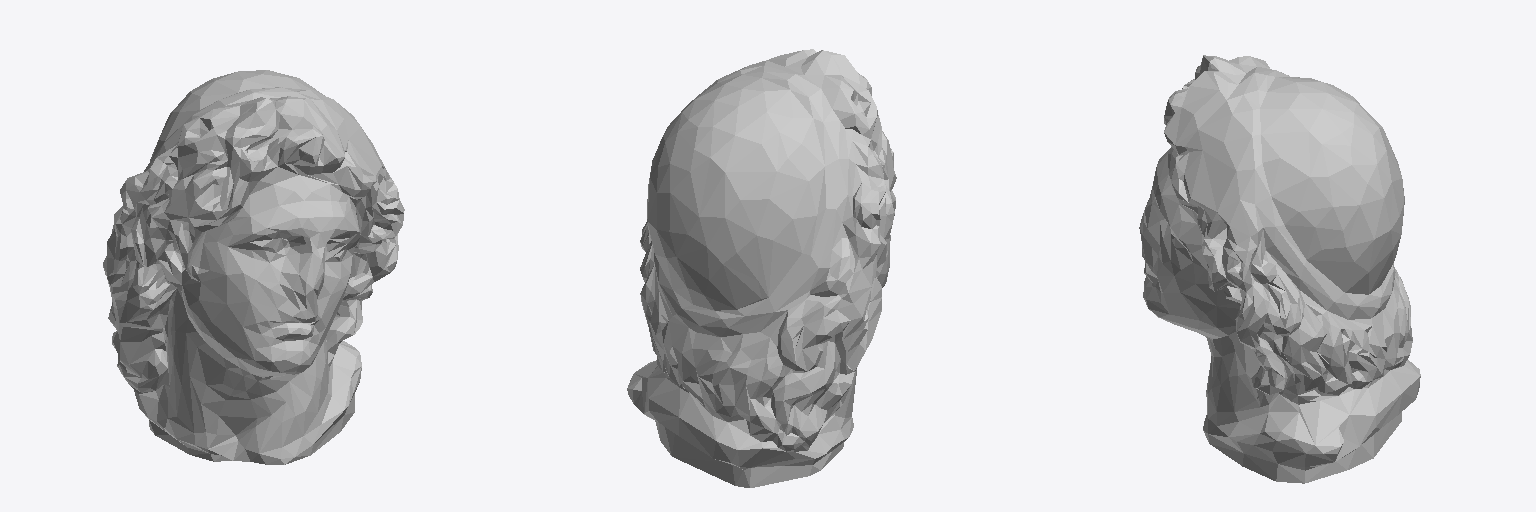
Rendered from Helios.obj.
3 renders of one model, left to right at view 1: azimuth 30°, elevation 25°; view 2: azimuth 150°, elevation 25°; view 3: azimuth 270°, elevation 25°, orthographic.
Visible parts, largest first — view 1: heliosbust_helios; view 2: heliosbust_helios; view 3: heliosbust_helios.
Boxes of the visible parts, box(x1,y1,x2,y2) form: heliosbust_helios: box(103, 70, 404, 464); heliosbust_helios: box(627, 49, 896, 487); heliosbust_helios: box(1139, 55, 1420, 483).
Bounding box in the file's own units: 30.56 × 43.14 × 29.37.